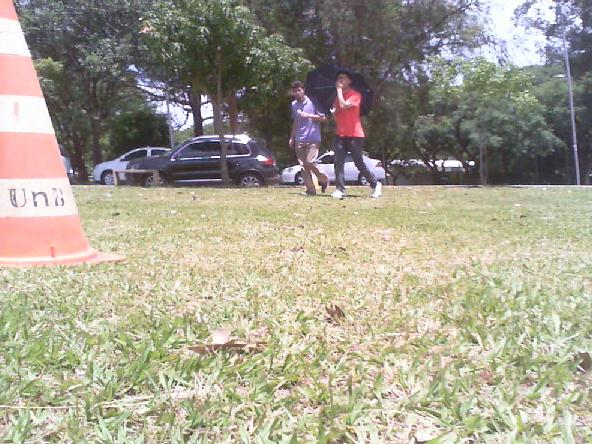0 cone: (0, 0, 127, 266)
